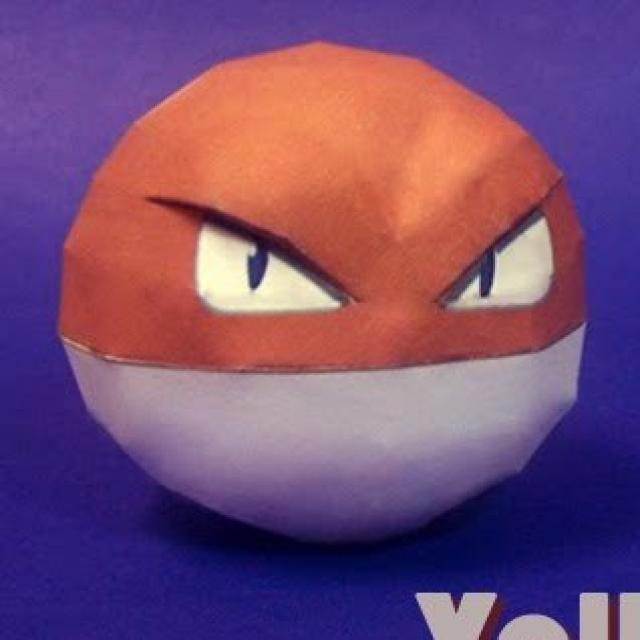Voltorb: (61, 41, 593, 534)
